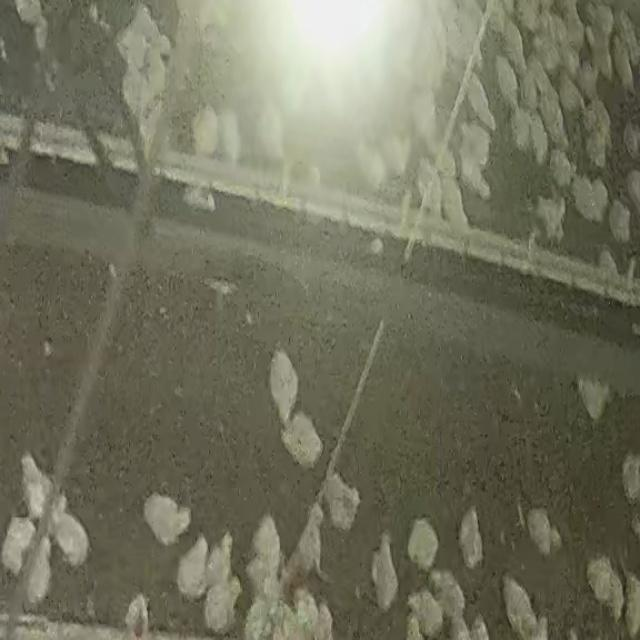chicken: (49, 496, 91, 571), (585, 552, 626, 628), (141, 491, 194, 548), (279, 411, 326, 471), (266, 346, 300, 425), (498, 571, 538, 637), (368, 532, 399, 612), (16, 448, 52, 516), (175, 534, 209, 599), (206, 576, 244, 634), (405, 516, 442, 572), (571, 172, 611, 222), (457, 504, 486, 571), (533, 192, 569, 242), (525, 507, 555, 560), (208, 532, 235, 582), (607, 199, 635, 245)
